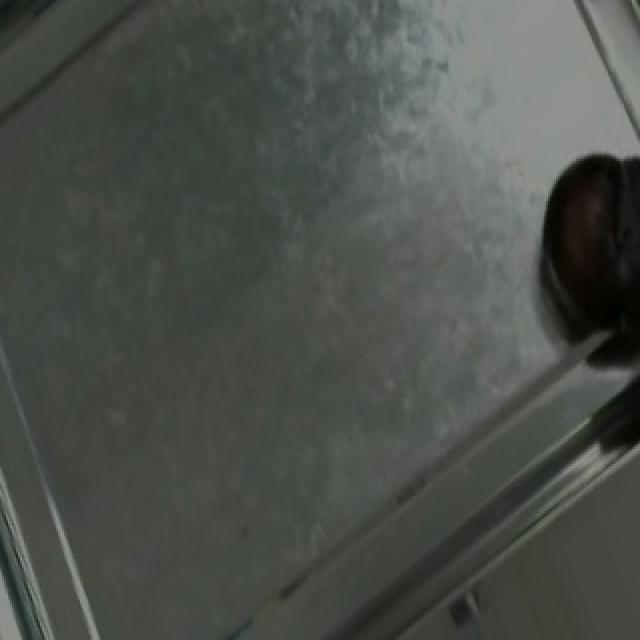Fruit: (522, 136, 640, 345)
